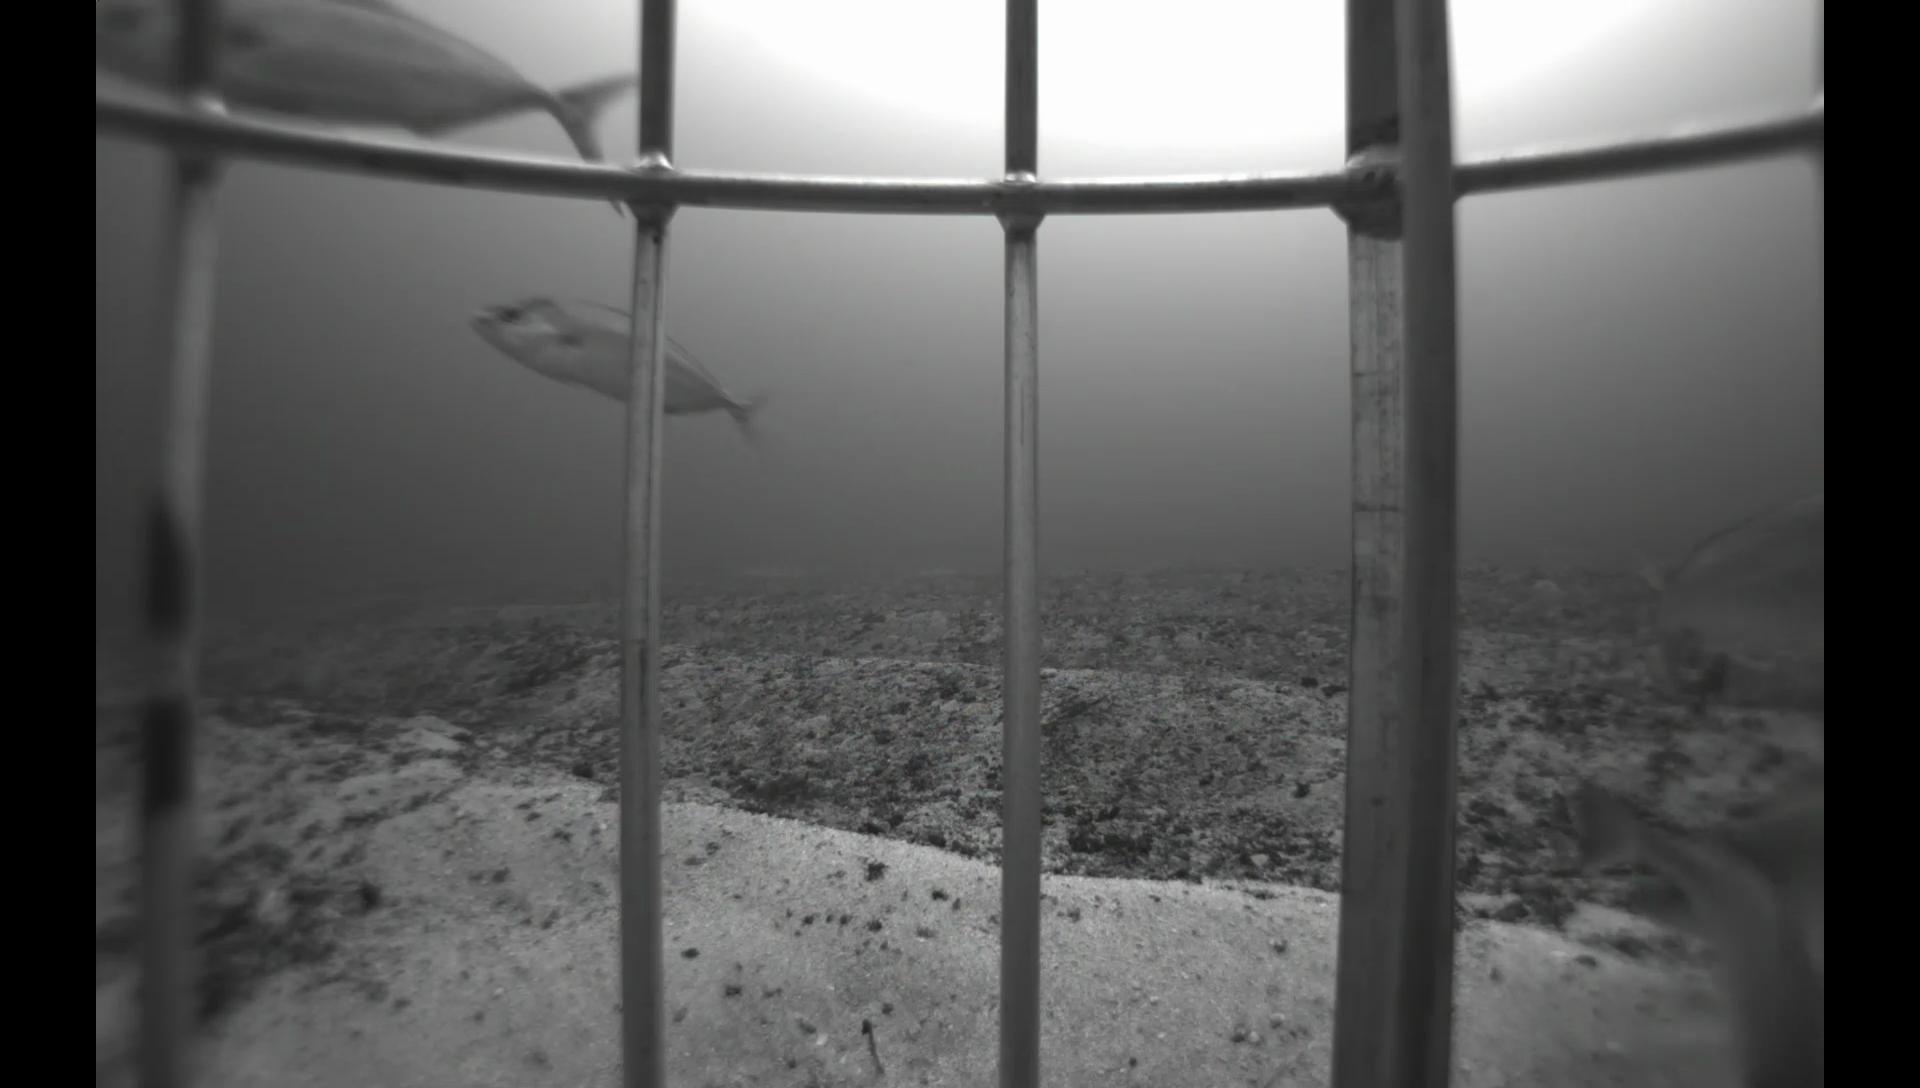RHOMBOPLITESAURORUBENS-170152001: (1571, 777, 1824, 1087), (1604, 480, 1825, 720), (1588, 783, 1824, 961)
SERIOLAFASCIATA-170113103: (99, 3, 644, 229), (463, 282, 785, 473)
